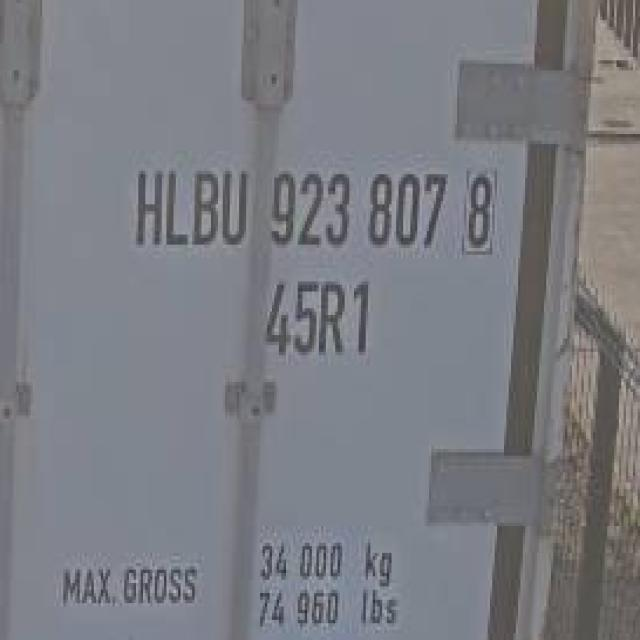dv: (456, 165, 502, 258)
owner: (130, 164, 252, 256)
serial: (262, 163, 449, 254)
size: (258, 273, 382, 362)
